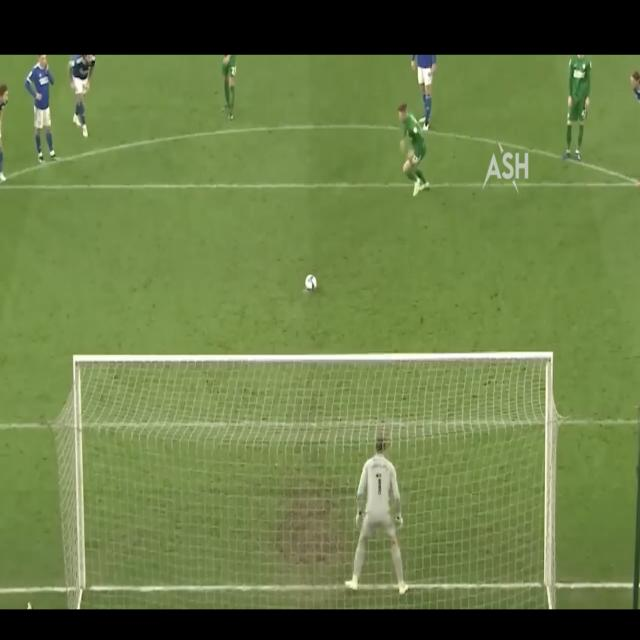soccer-goal: (78, 360, 550, 584)
